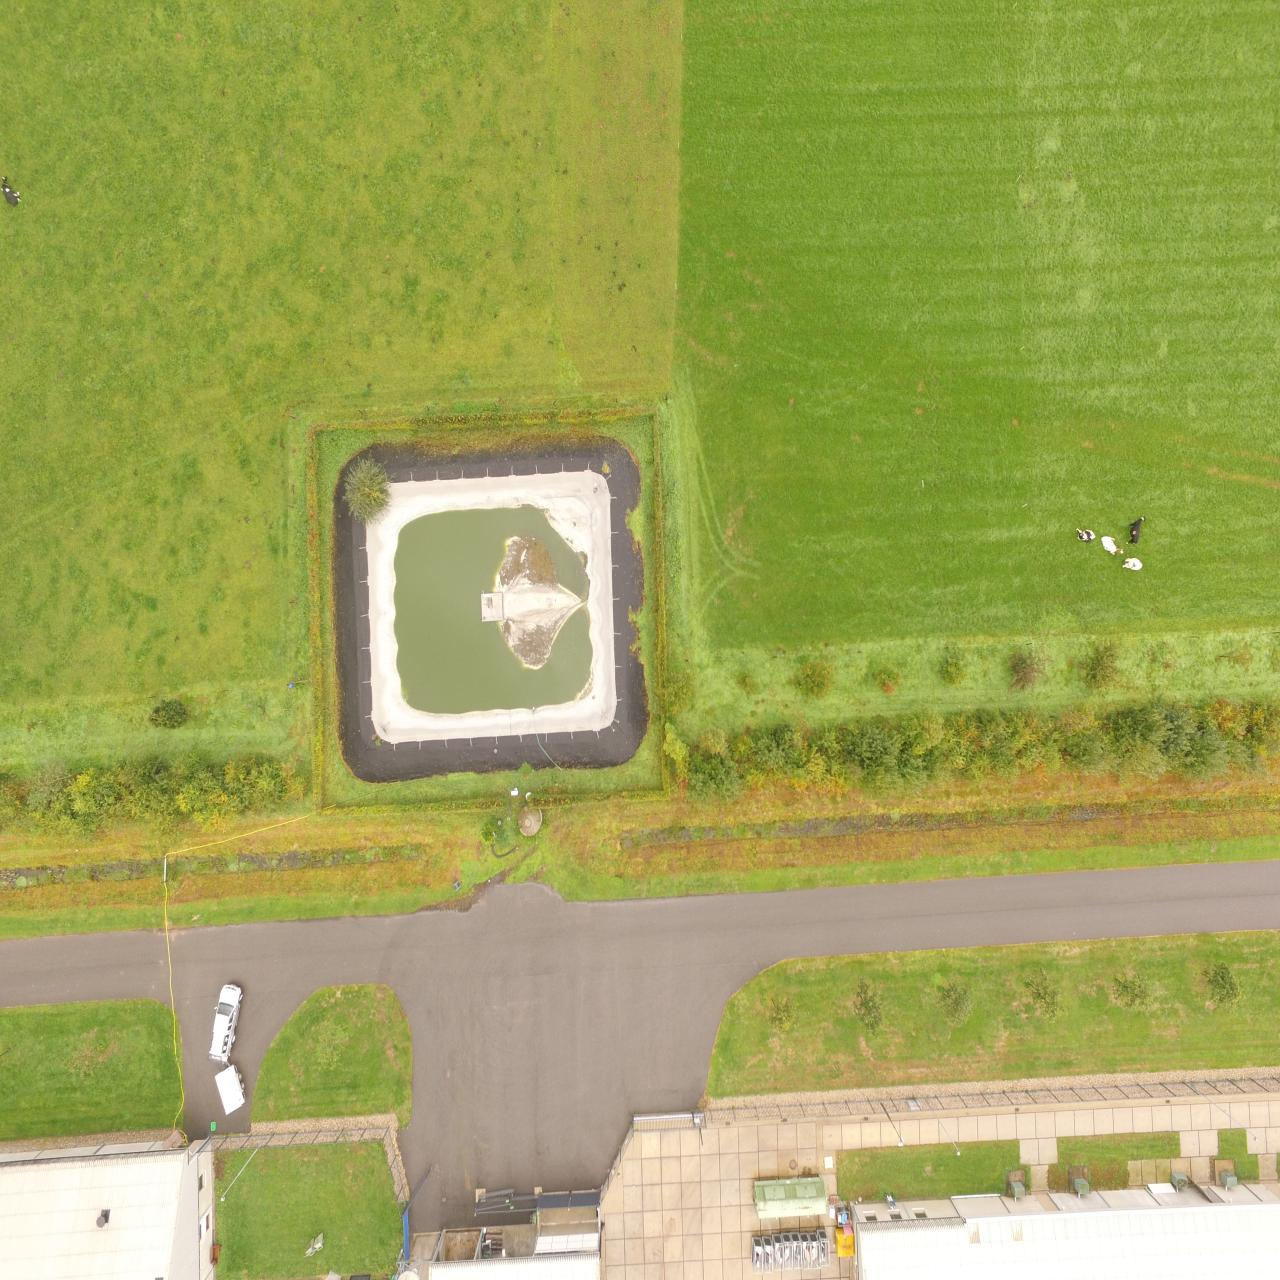cow: (1125, 516, 1145, 544), (1101, 535, 1123, 556), (1123, 558, 1143, 572), (1076, 527, 1096, 540)
